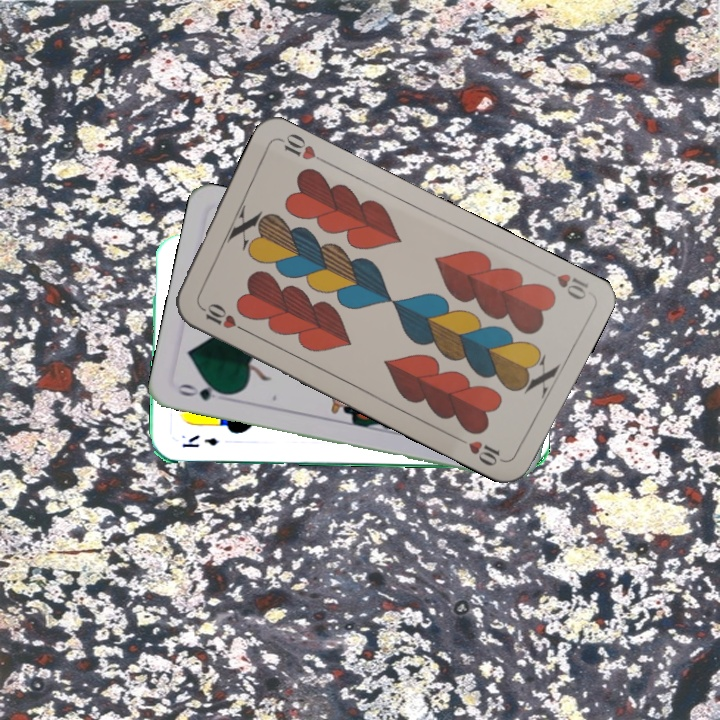EK: (178, 431, 221, 450)
GO: (173, 379, 232, 404)
H10: (194, 299, 248, 335), (552, 269, 591, 303)
